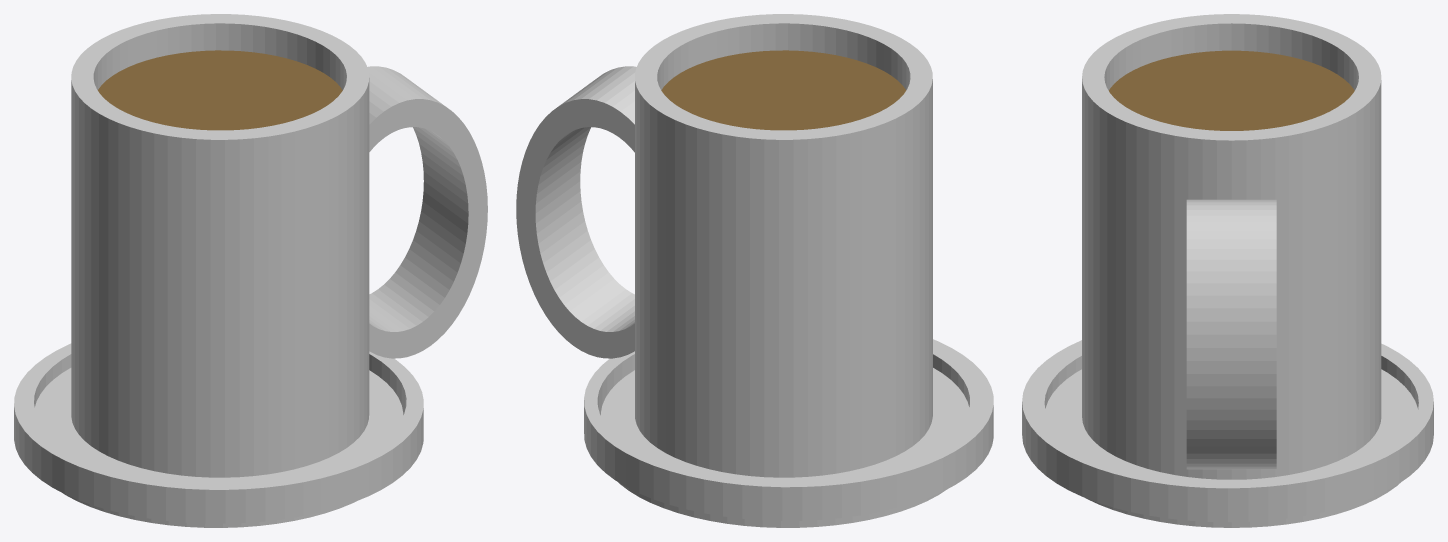
File: kape.glb
3 renders of one model, left to right at view 1: azimuth 30°, elevation 25°; view 2: azimuth 150°, elevation 25°; view 3: azimuth 270°, elevation 25°, orthographic.
Parts seen in each view (by area): view 1: Mesh_Mesh_head_geo.001_lambert2SG.001; view 2: Mesh_Mesh_head_geo.001_lambert2SG.001; view 3: Mesh_Mesh_head_geo.001_lambert2SG.001.
Part boxes in pixels (x1,y1,x2,y2): Mesh_Mesh_head_geo.001_lambert2SG.001: [14, 14, 487, 527]; Mesh_Mesh_head_geo.001_lambert2SG.001: [516, 14, 993, 527]; Mesh_Mesh_head_geo.001_lambert2SG.001: [1022, 14, 1433, 527].
Size of the model in its own units: 66 by 55 by 55.
